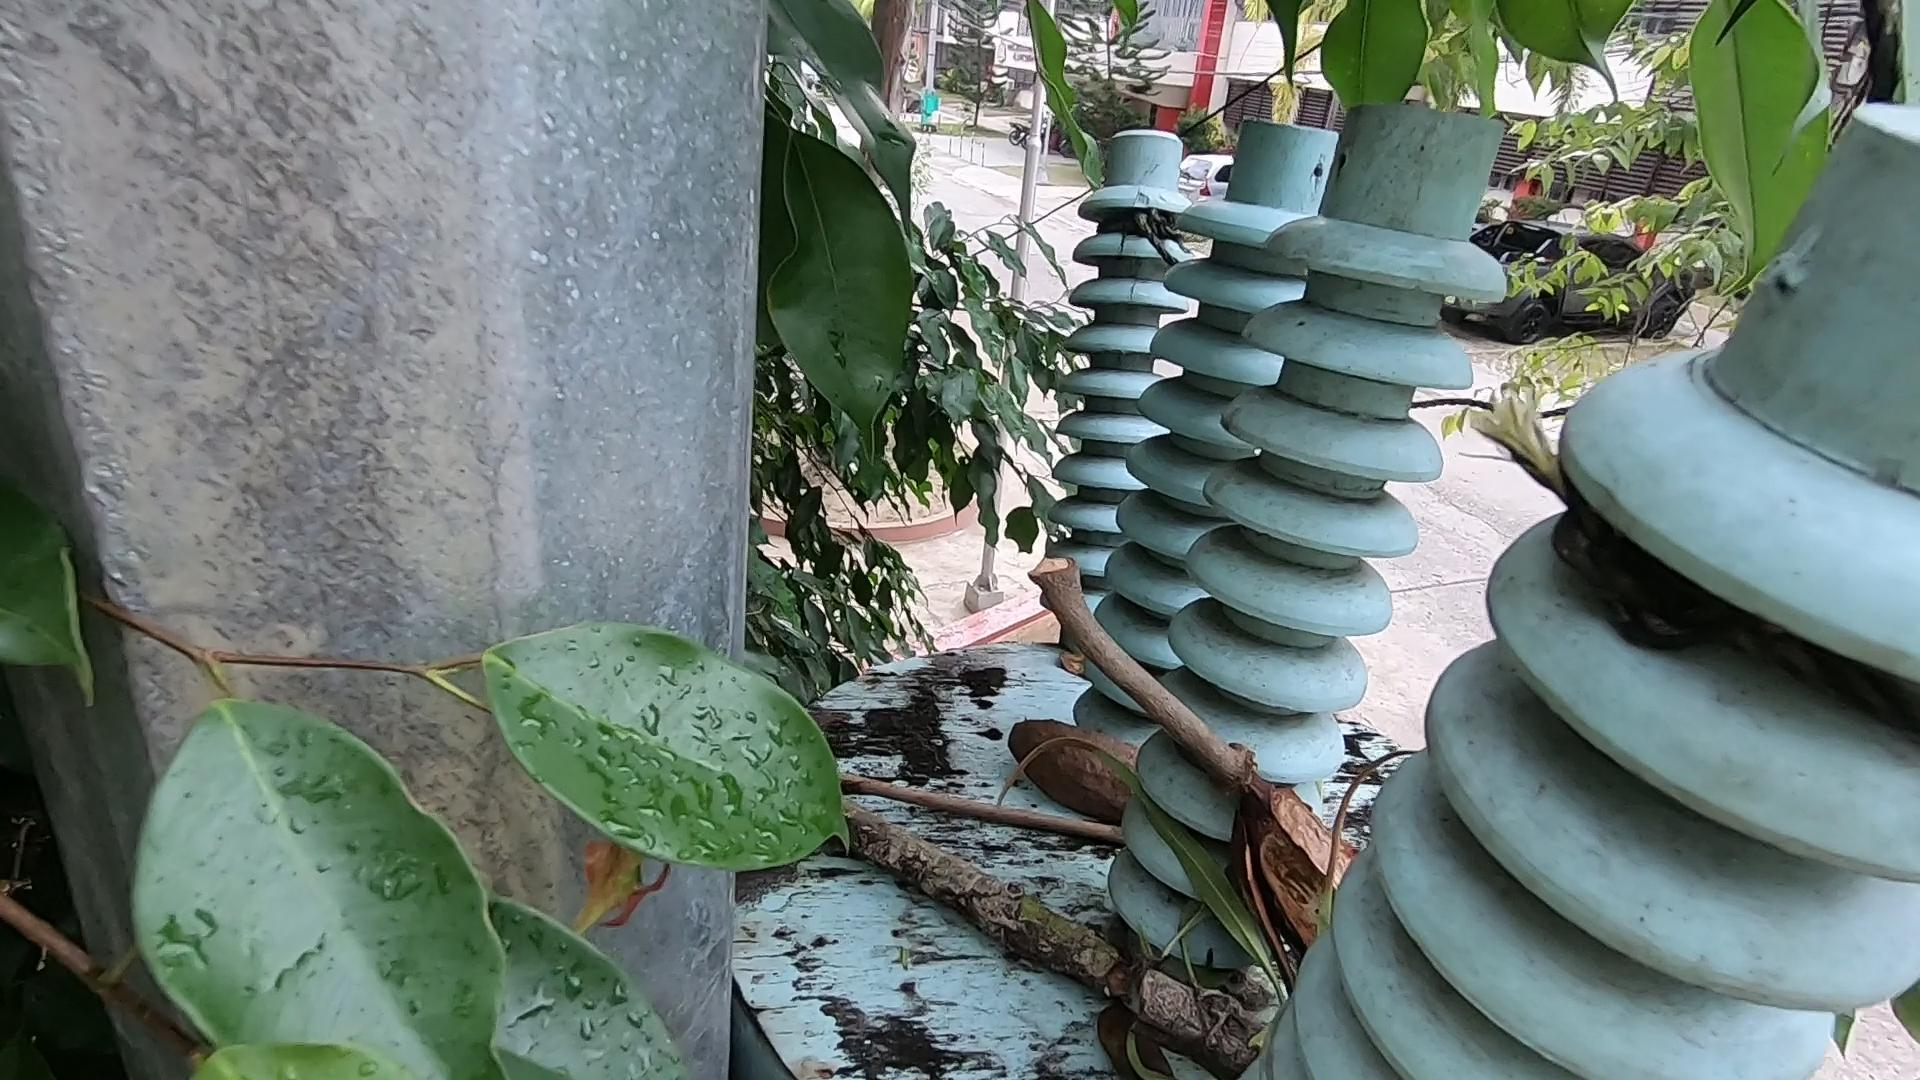branch with leaves: (843, 811, 1255, 1058)
leaf: (1130, 777, 1290, 1011)
mahogany fruit: (1207, 748, 1360, 973), (1010, 684, 1139, 866)
tree branch: (1047, 560, 1265, 808), (839, 771, 1129, 844)
